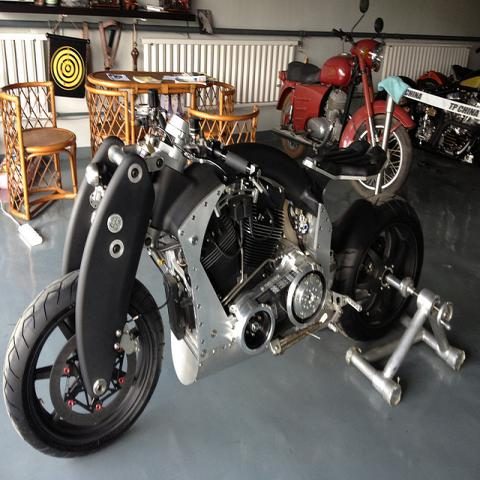motorcycle: (1, 90, 423, 460), (271, 0, 416, 190), (374, 64, 480, 165)
